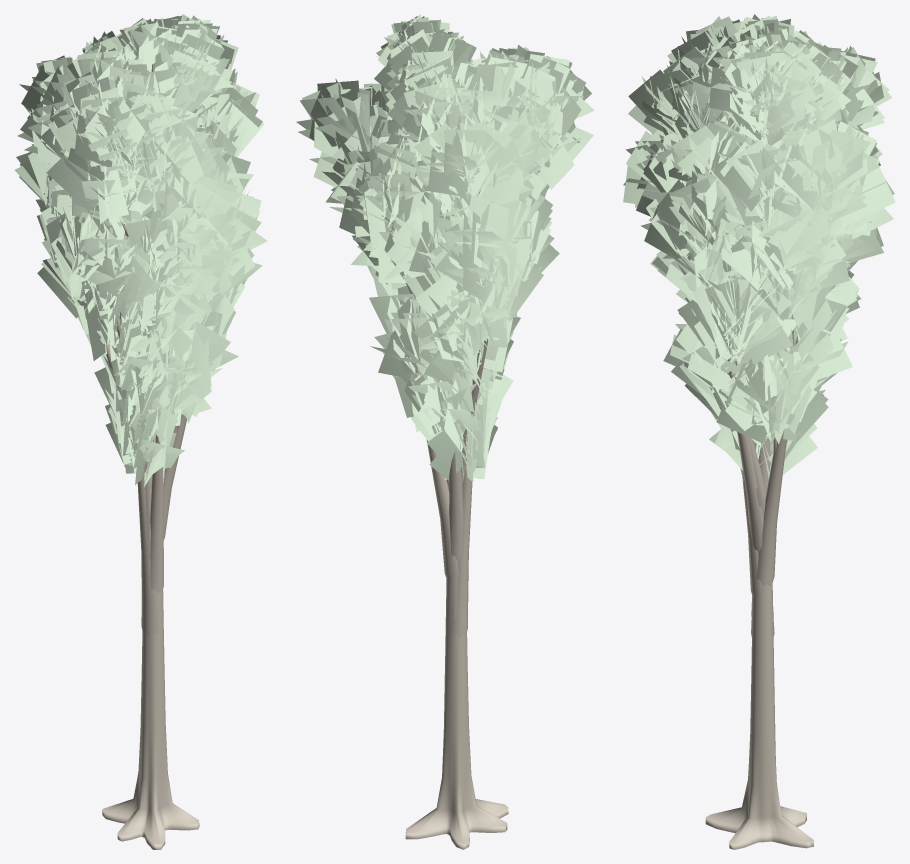
File: tree-9.gltf
3 renders of one model, left to right at view 1: azimuth 30°, elevation 25°; view 2: azimuth 150°, elevation 25°; view 3: azimuth 270°, elevation 25°, orthographic.
Parts seen in each view (by area): view 1: TerraWeave Arbor; view 2: TerraWeave Arbor; view 3: TerraWeave Arbor.
Part boxes in pixels (box(x1,y1,x2,y2)): TerraWeave Arbor: box(14, 14, 267, 849); TerraWeave Arbor: box(296, 14, 594, 849); TerraWeave Arbor: box(623, 14, 895, 849).
Bounding box in the file's own units: 5.3 × 17.76 × 5.44.
